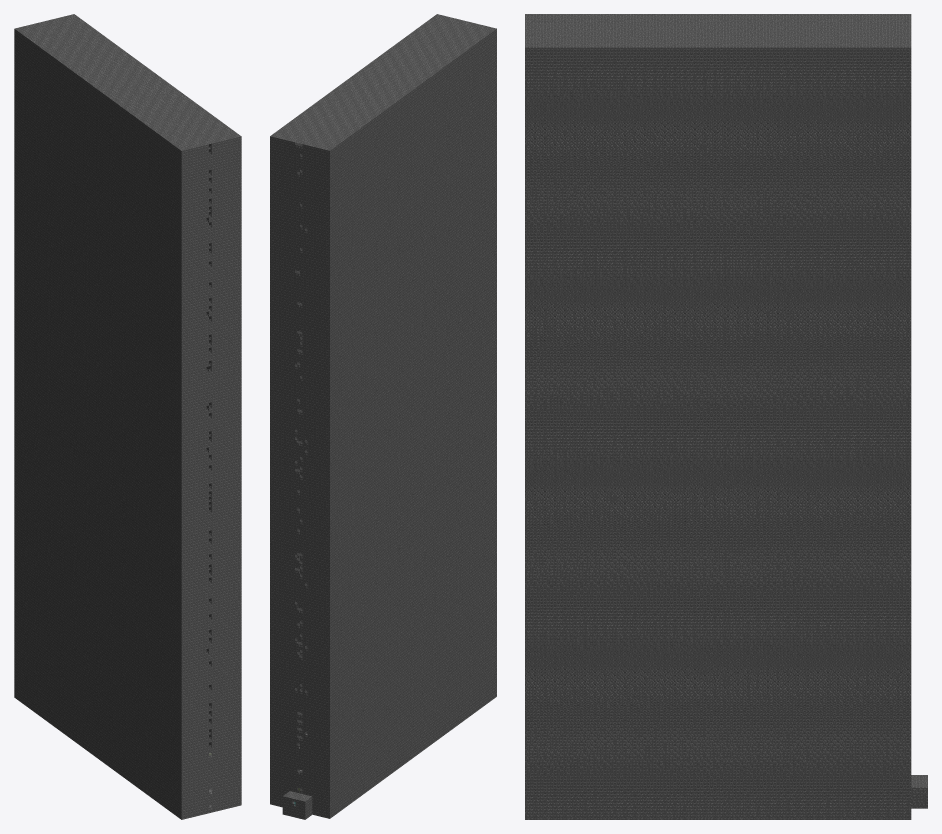
Rendered from minecraft.obj.
The picture shows the model from 3 angles, left to right: view 1: azimuth 30°, elevation 25°; view 2: azimuth 150°, elevation 25°; view 3: azimuth 270°, elevation 25°; orthographic projection. The views are drawn at different scales.
Size of the model in its own units: 240 by 2560 by 1210.
